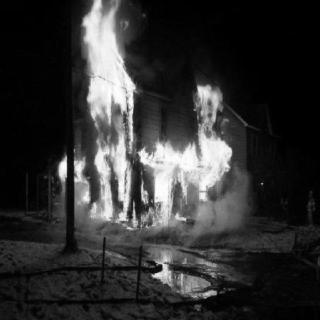Fire: (73, 6, 235, 232), (51, 153, 71, 181)
